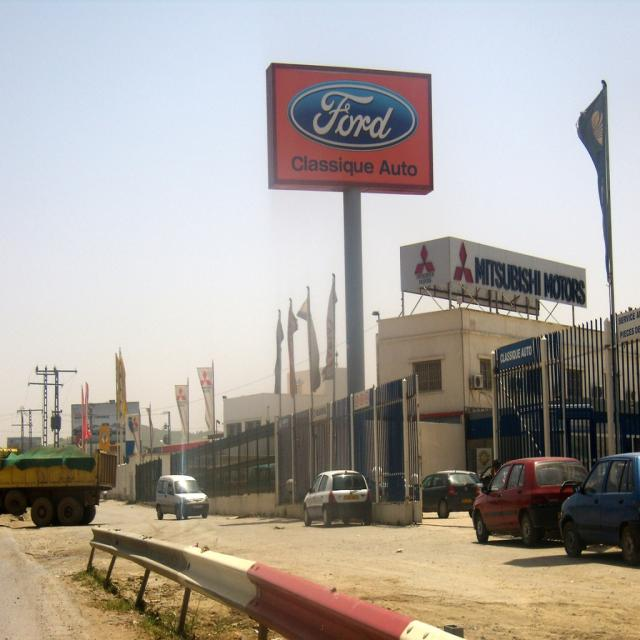ford: (285, 78, 420, 154)
